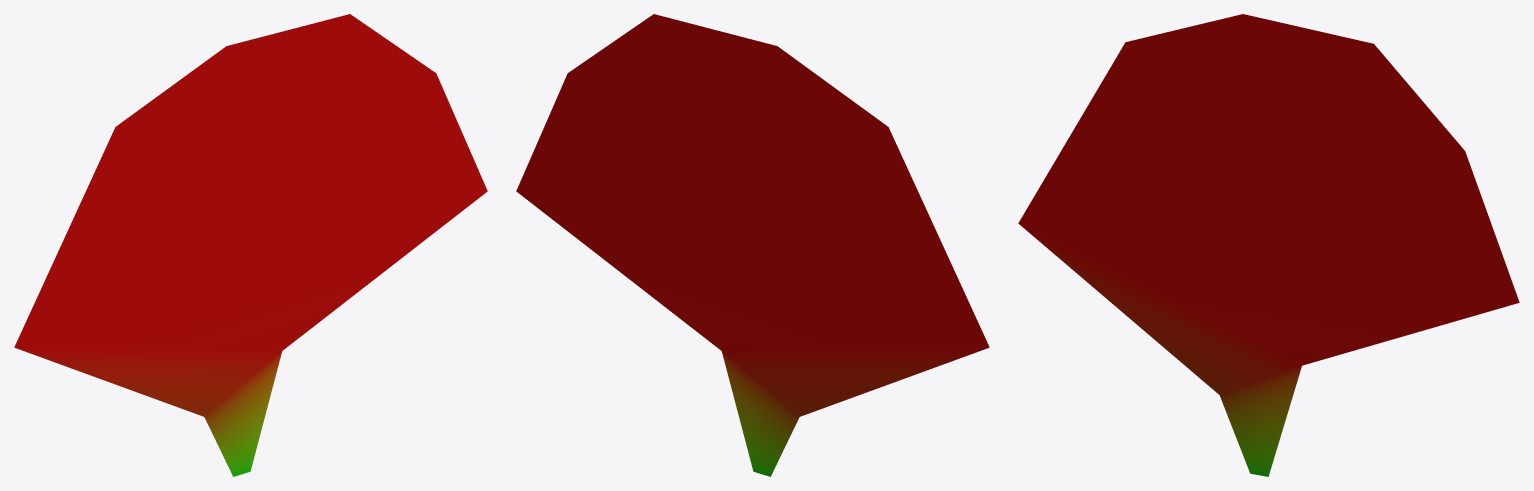
Rendered from European Spindle_LOD4_Var14.fbx.
3 renders of one model, left to right at view 1: azimuth 30°, elevation 25°; view 2: azimuth 150°, elevation 25°; view 3: azimuth 330°, elevation 25°, orthographic. The views are drawn at different scales.
Parts seen in each view (by area): view 1: _8kc7_Var14_LOD4; view 2: _8kc7_Var14_LOD4; view 3: _8kc7_Var14_LOD4.
Part boxes in pixels (left/top/right/bottom): _8kc7_Var14_LOD4: left=14, top=14, right=487, bottom=476; _8kc7_Var14_LOD4: left=516, top=14, right=989, bottom=476; _8kc7_Var14_LOD4: left=1018, top=14, right=1519, bottom=476.
Size of the model in its own units: 330 by 290 by 2.91e-11.
